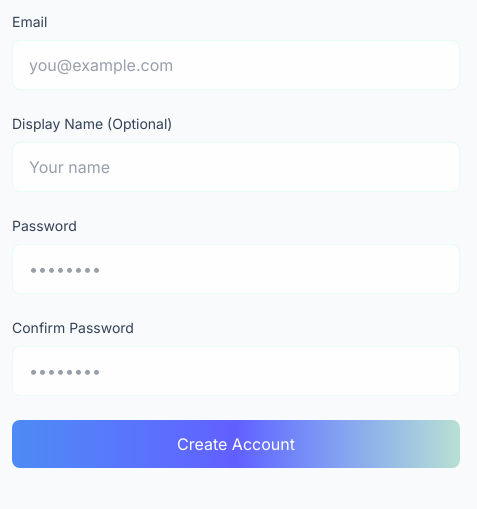
Test: RegisterForm › shows password strength indicator
Type "weak" into the password field labelled "Password" at (236, 269), box 12,244 -> 460,294
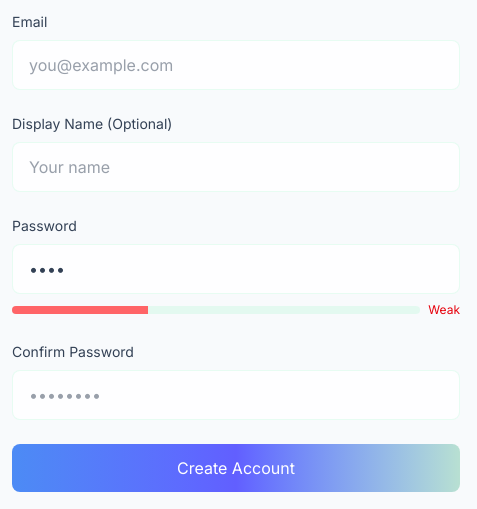
Expected: the text "Weak" is shown, 428,302 -> 460,318
